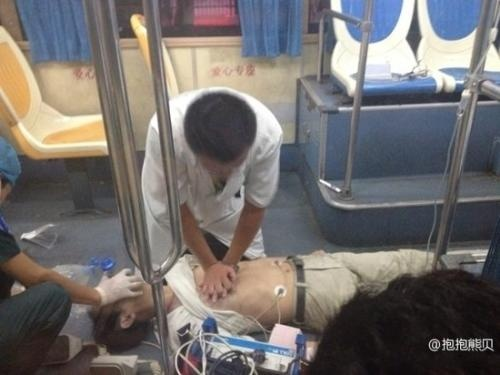falling: (80, 228, 476, 347)
